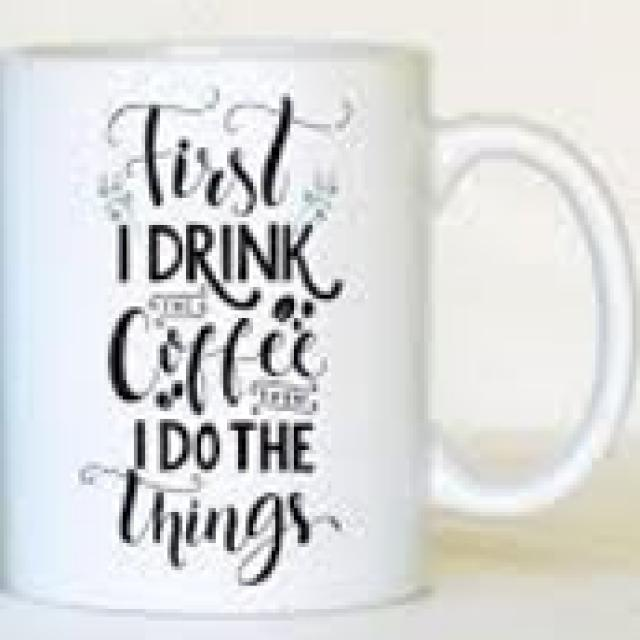taza: (0, 29, 640, 616)
